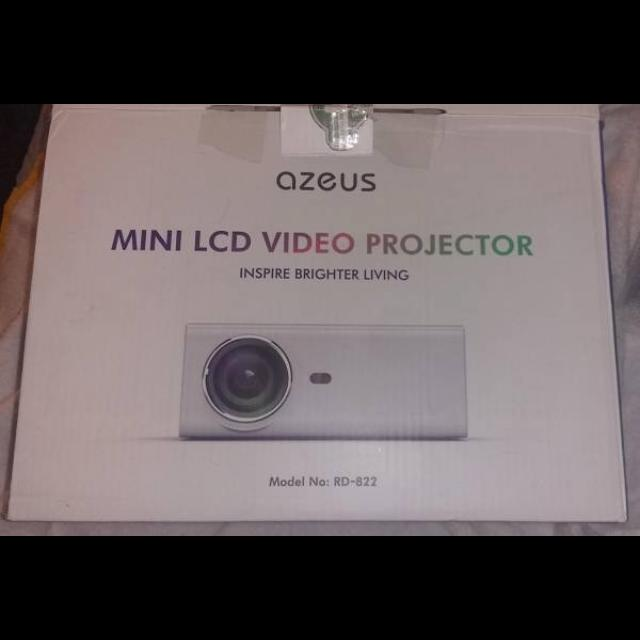Projector: (170, 306, 478, 449)
